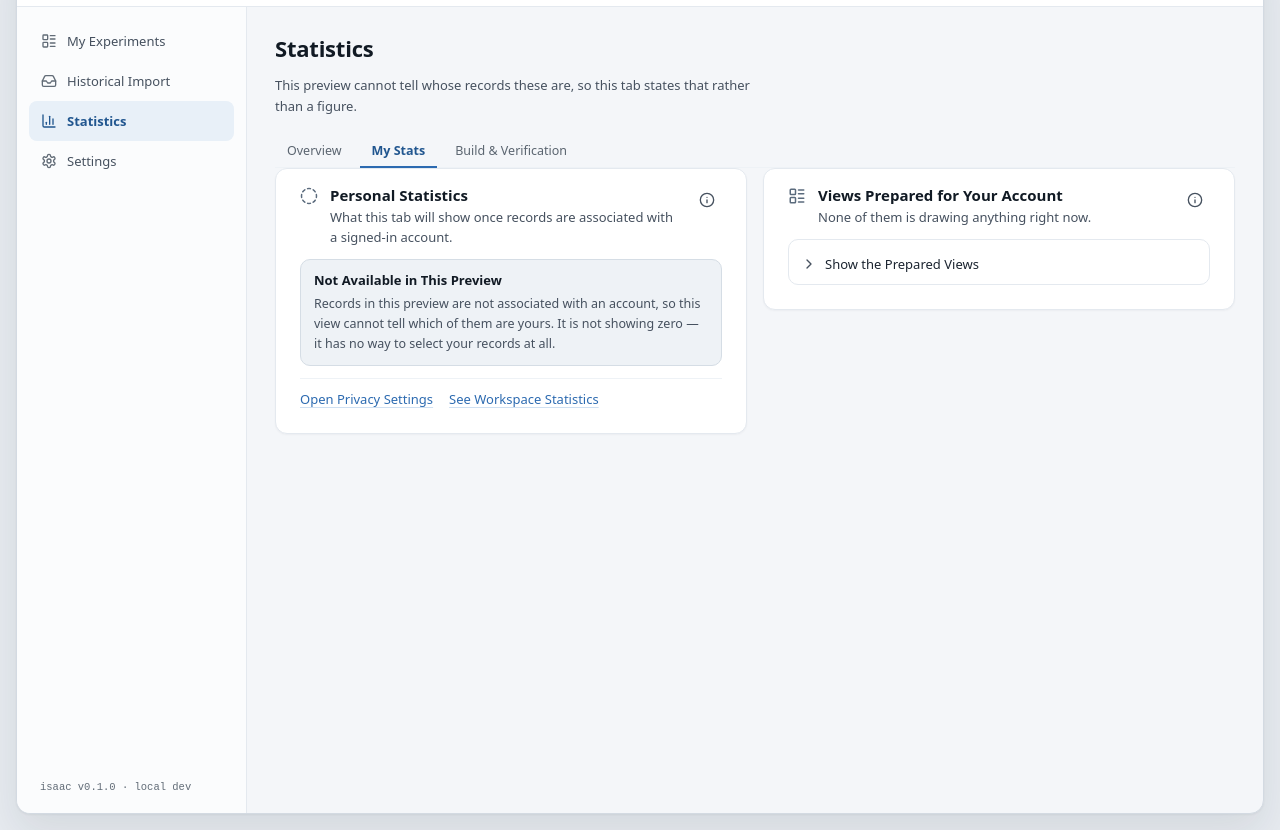
Test case: the planned views describe a shape without asserting a figure › lists all eight, each with a title, a description, a form and a gate marker
The image size is (1280, 830).
Expected: the text "Not Available in This Preview" is shown, [314, 271, 502, 289]
Expected: the heading "Records You Author, by Workflow Step" is not shown
Click the button "Show the Prepared Views" at (902, 264), box [789, 244, 1209, 284]
(page scrolled)
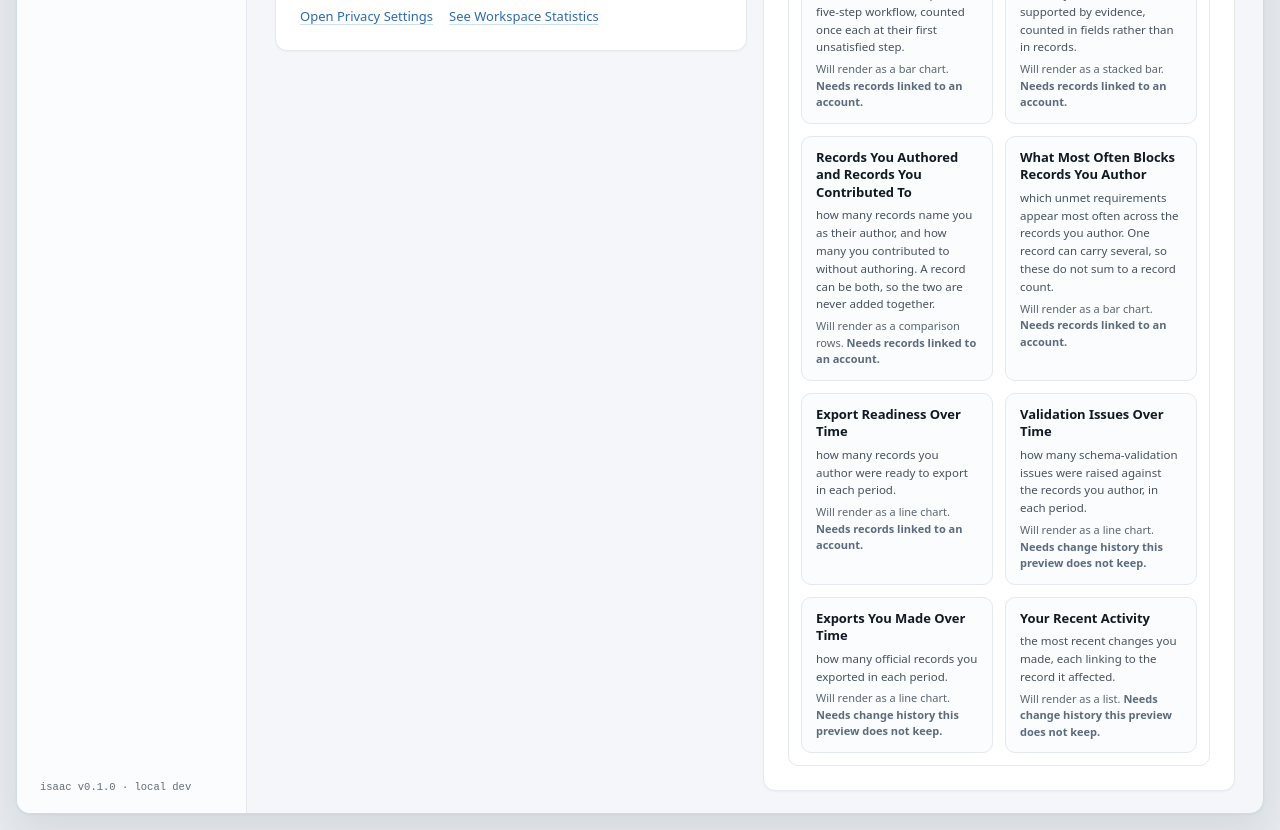
Result: the text "Will render as a bar chart." below "Records You Author, by Workflow Step" is shown at [816, 61, 949, 76]
Result: the text "Will render as a stacked bar." is shown at [1020, 61, 1164, 76]
Result: the 3rd list item is shown at [801, 136, 993, 381]
